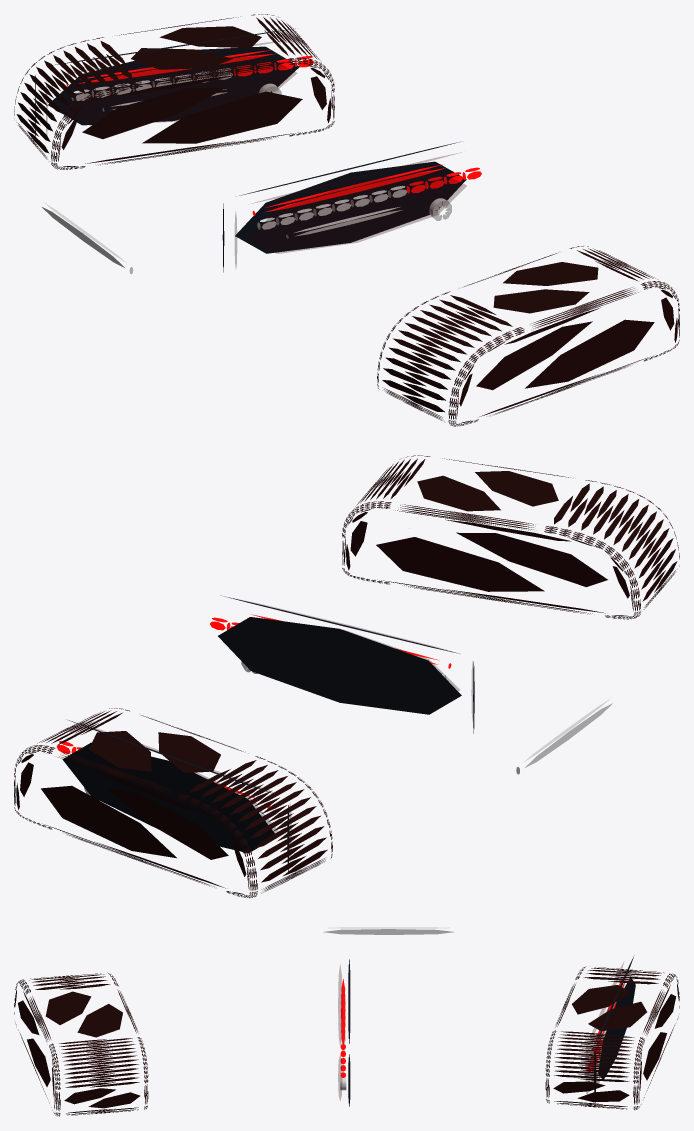
File: taillights.glb
The picture shows the model from 3 angles, top to bottom: view 1: azimuth 30°, elevation 25°; view 2: azimuth 150°, elevation 25°; view 3: azimuth 270°, elevation 25°; orthographic projection. The views are drawn at different scales.
Parts seen in each view (by area): view 1: Taillights_Assembly; view 2: Taillights_Assembly; view 3: Taillights_Assembly.
Part boxes in pixels (x1,y1,x2,y2): Taillights_Assembly: [14, 14, 679, 426]; Taillights_Assembly: [14, 455, 679, 898]; Taillights_Assembly: [14, 927, 679, 1116].
Bounding box in the file's own units: 0.5808 × 0.116 × 1.1.
